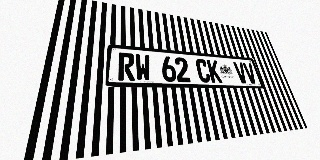2: (174, 57, 191, 82)
6: (161, 56, 177, 82)
C: (195, 59, 211, 83)
K: (206, 59, 223, 83)
R: (118, 52, 135, 81)
V: (242, 62, 258, 84), (233, 62, 249, 83)
W: (135, 54, 151, 81)
